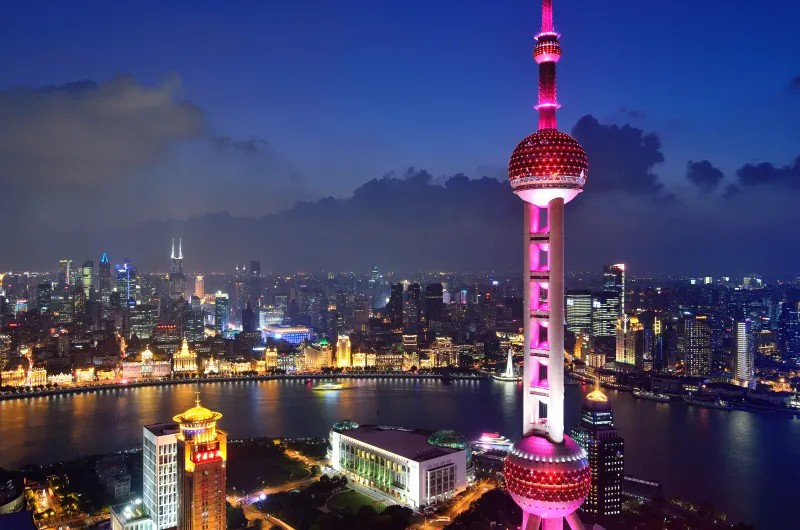Oriental: (503, 2, 592, 530)
